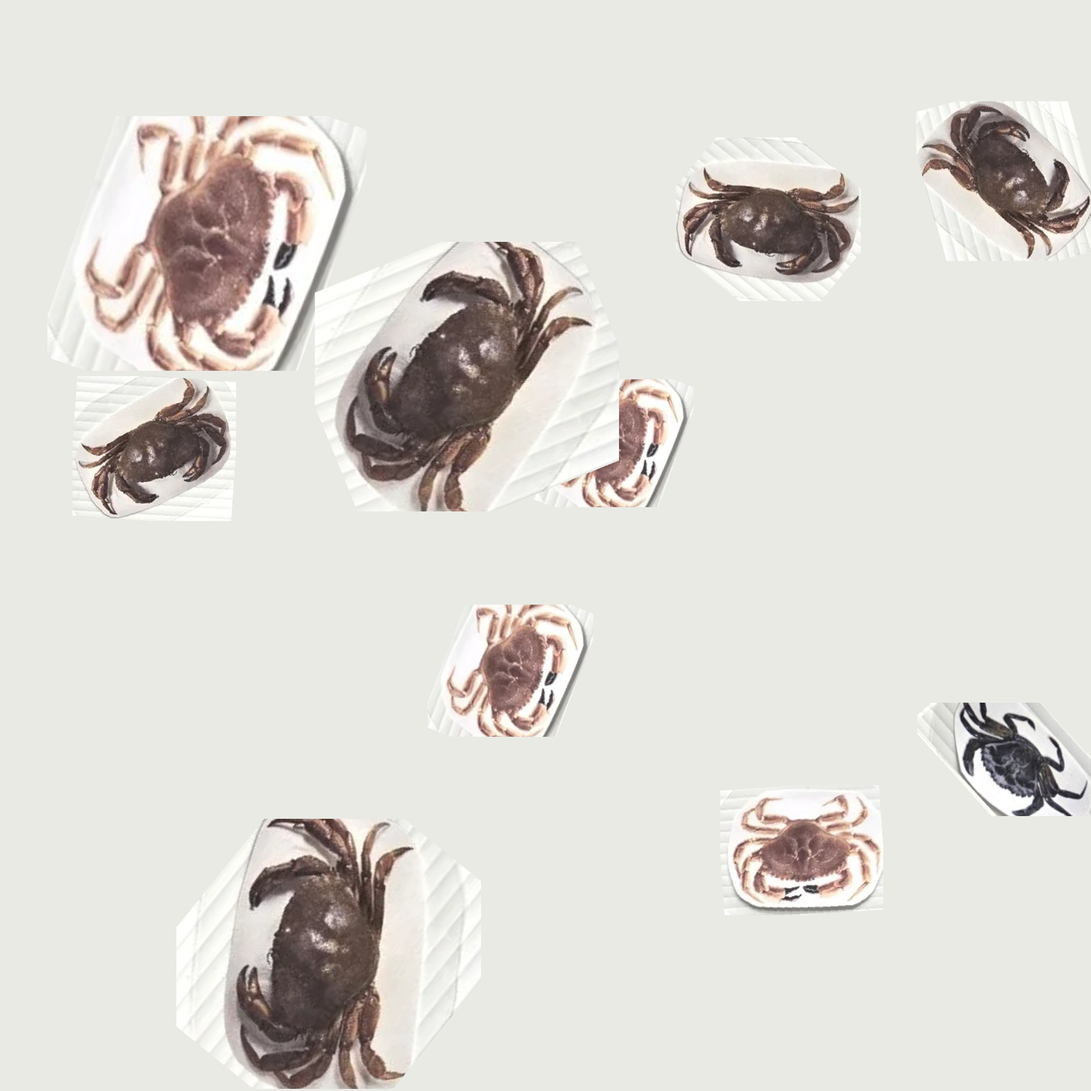evil: (922, 684, 1091, 824)
normal: (65, 102, 340, 374), (205, 791, 438, 1088), (350, 260, 584, 510), (677, 145, 860, 296), (922, 102, 1091, 264), (701, 784, 895, 908), (67, 384, 231, 512), (448, 598, 579, 738), (595, 362, 698, 519)
